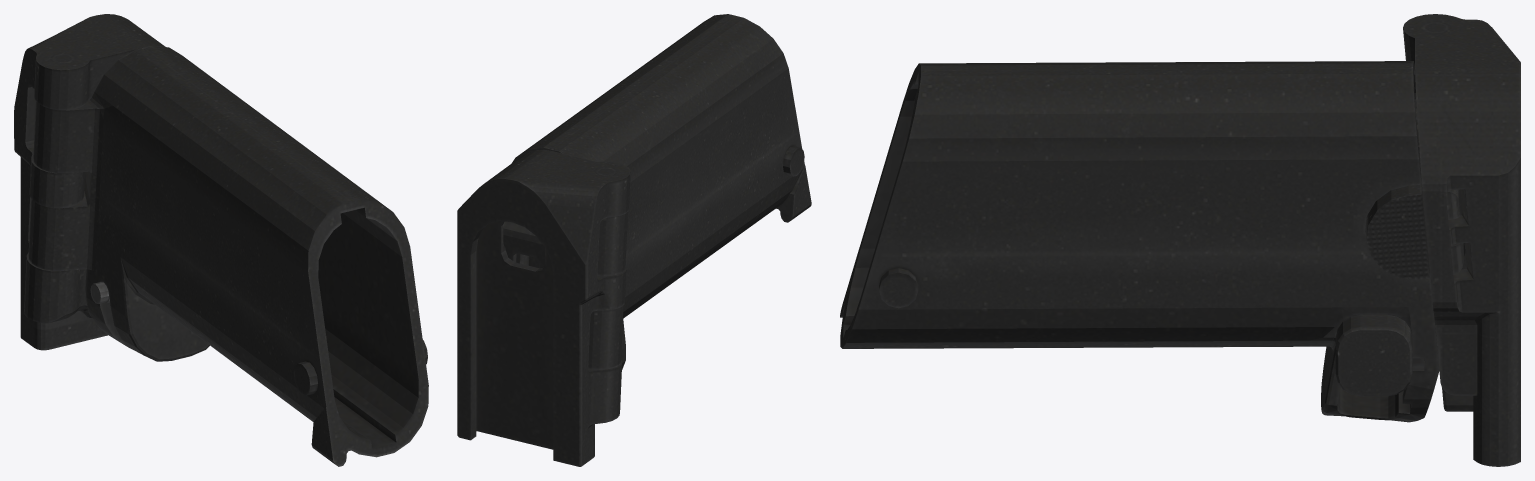
3 renders of one model, left to right at view 1: azimuth 30°, elevation 25°; view 2: azimuth 150°, elevation 25°; view 3: azimuth 270°, elevation 25°, orthographic. The views are drawn at different scales.
Parts seen in each view (by area): view 1: TW_61816734d8e3106d9806c1f3_PZ_Import; view 2: TW_61816734d8e3106d9806c1f3_PZ_Import; view 3: TW_61816734d8e3106d9806c1f3_PZ_Import.
Part boxes in pixels (box(x1,y1,x2,y2)): TW_61816734d8e3106d9806c1f3_PZ_Import: box(14, 14, 428, 466); TW_61816734d8e3106d9806c1f3_PZ_Import: box(457, 14, 811, 466); TW_61816734d8e3106d9806c1f3_PZ_Import: box(840, 14, 1520, 466).
Bounding box in the file's own units: 0.0288 × 0.0848 × 0.0495.
1 material, 1 textured.
